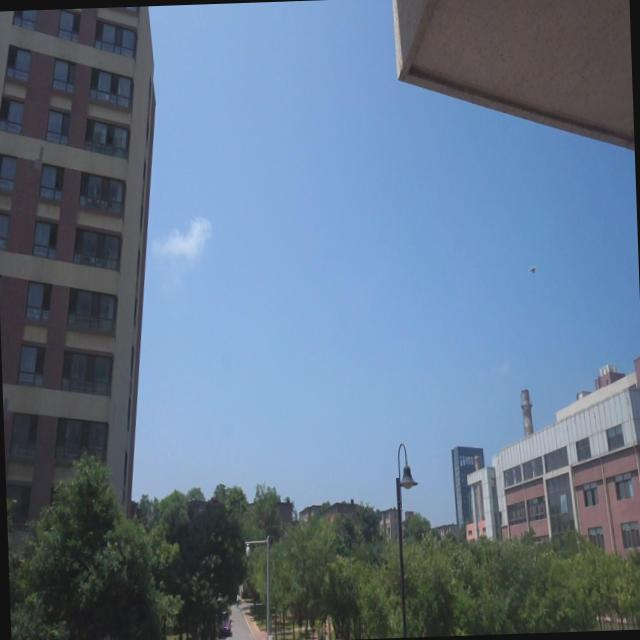drone: (529, 262, 537, 278)
